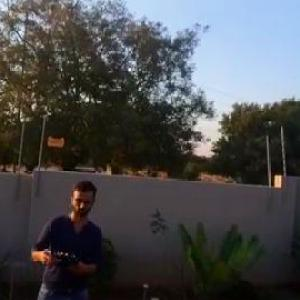follow: (23, 169, 109, 299)
